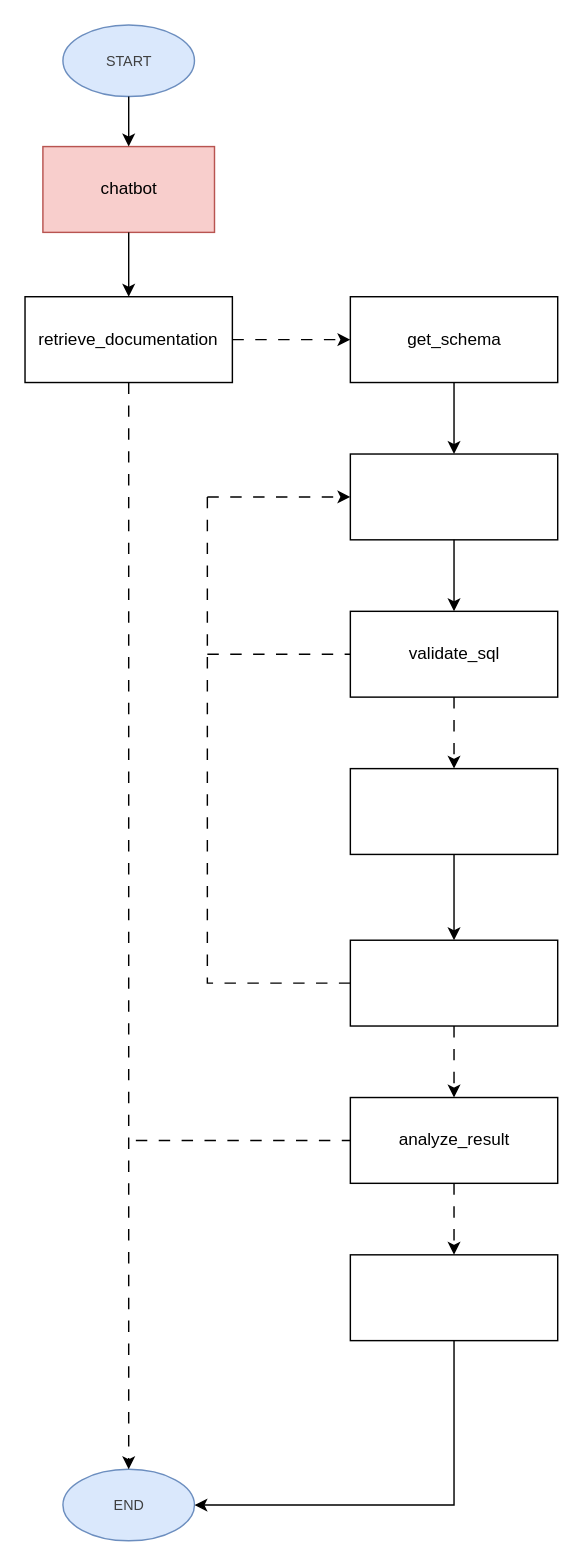
Some shapes in this 583 by 1566 pixel diagram are drawn without their labels. The shapes that lost their labels are listed below. From the top down, each one's box as (x1, y1, x2, y2) in pixels, then its label:
(349, 453, 558, 540): generate_sql
(349, 767, 558, 854): execute_sql
(349, 939, 558, 1026): check_result
(349, 1253, 558, 1341): create_chart
